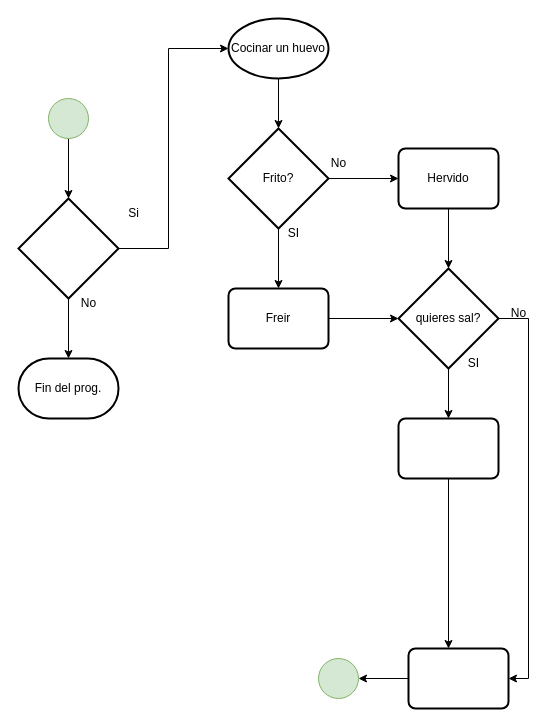
Some shapes in this 555 by 726 pixel diagram are drawn without their labels. Here are the shapes that lost their labels. From the top down, the centre of each, then its label:
At [68,248]: "Quieres Repetir".
At [448,448]: "agregar sal".
At [458,678]: "servirlo".
